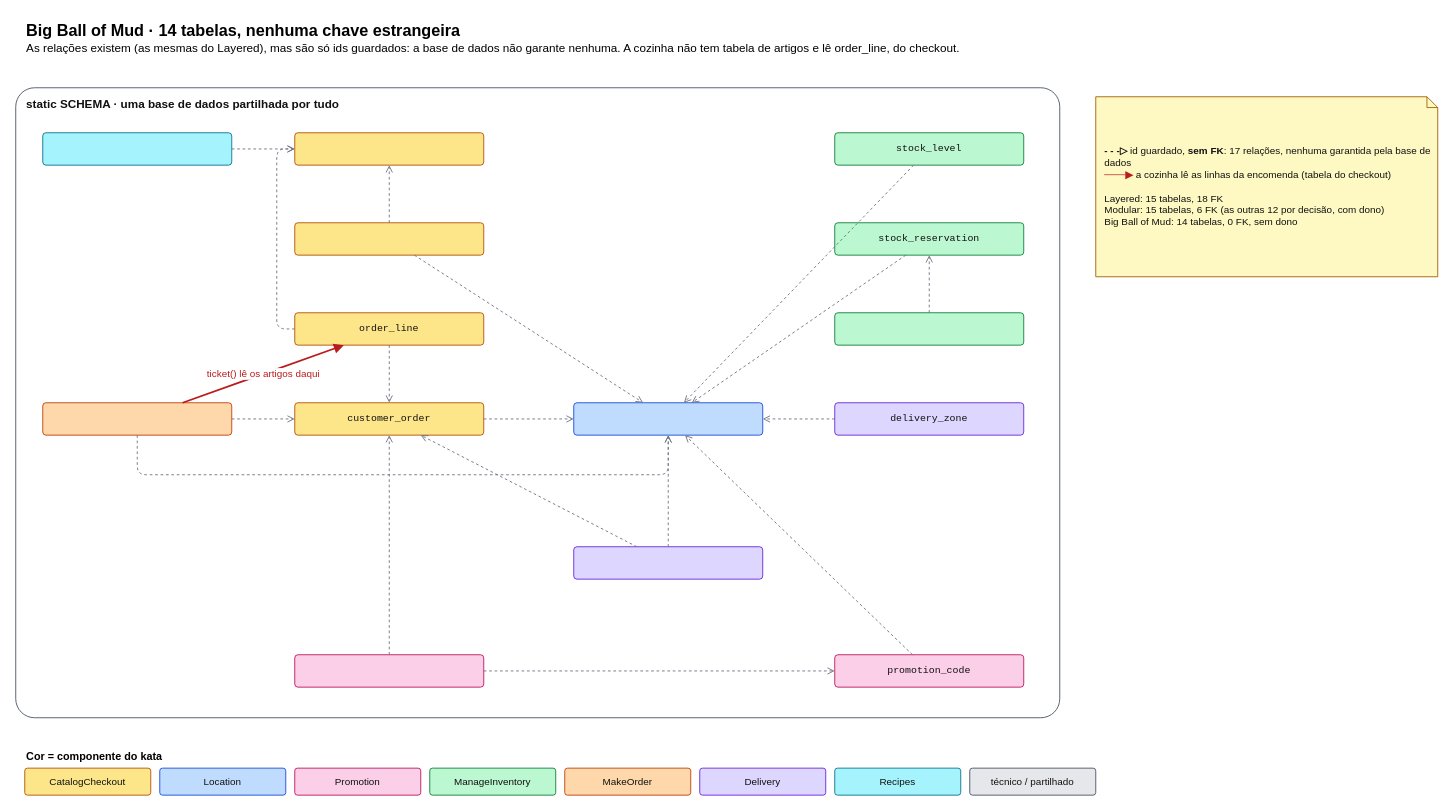
The diagram is 1454 pixels wide and 811 high, and some of its shapes have lost their labels. Each missing label, with the centre of its shape:
delivery_job: the point at 668,562
kitchen_ticket: the point at 137,418
promotion_redemption: the point at 389,670
recipe_ingredient: the point at 137,148
sandwich: the point at 389,148
stock_reservation_line: the point at 929,328
store: the point at 668,418
store_menu: the point at 389,238
